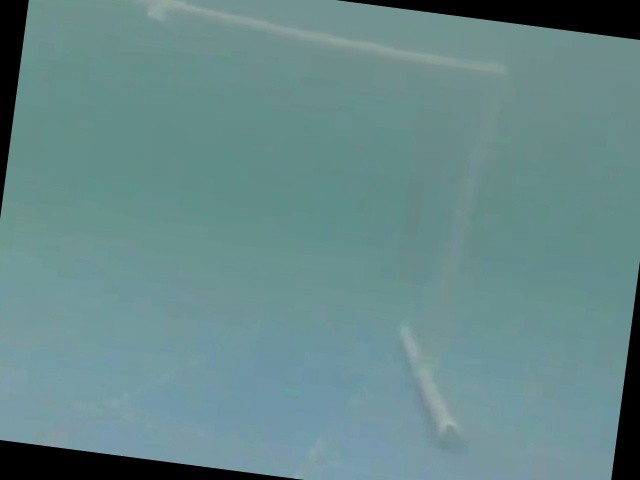gate: (46, 2, 487, 471)
